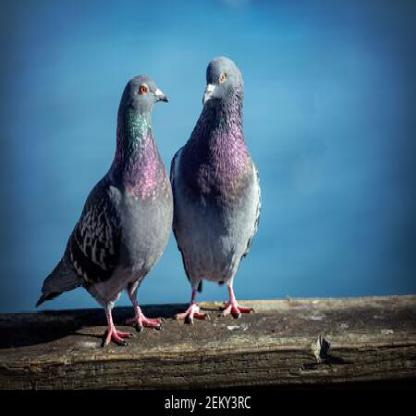Rock Pigeon: (38, 75, 176, 331), (172, 61, 261, 322)
